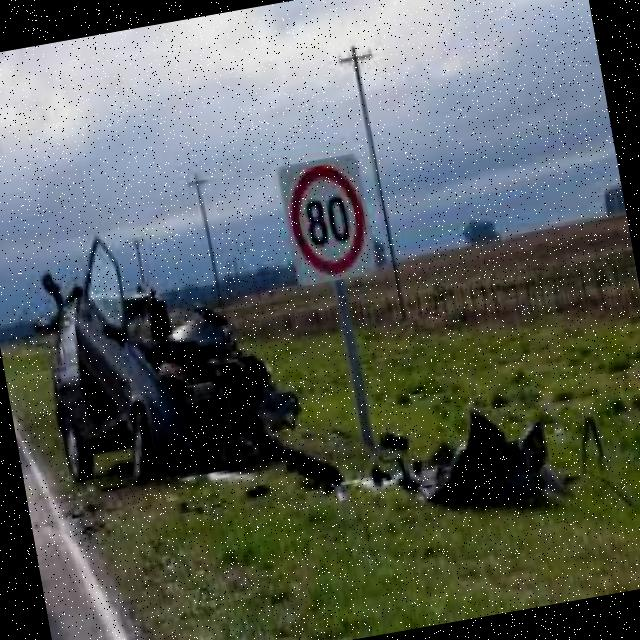Ograniczenie predkosci do 80: (283, 160, 372, 280)
